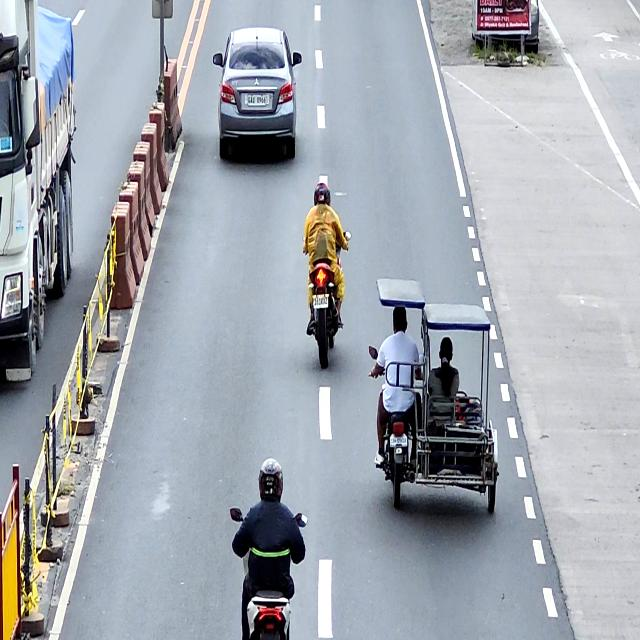Car: (212, 27, 302, 164)
License-Plate: (390, 433, 407, 447), (313, 294, 329, 308), (247, 95, 266, 106)
Motorcycle: (229, 507, 307, 640), (303, 228, 351, 368)
Tricycle: (368, 276, 499, 516)
Truck: (0, 0, 75, 383)
